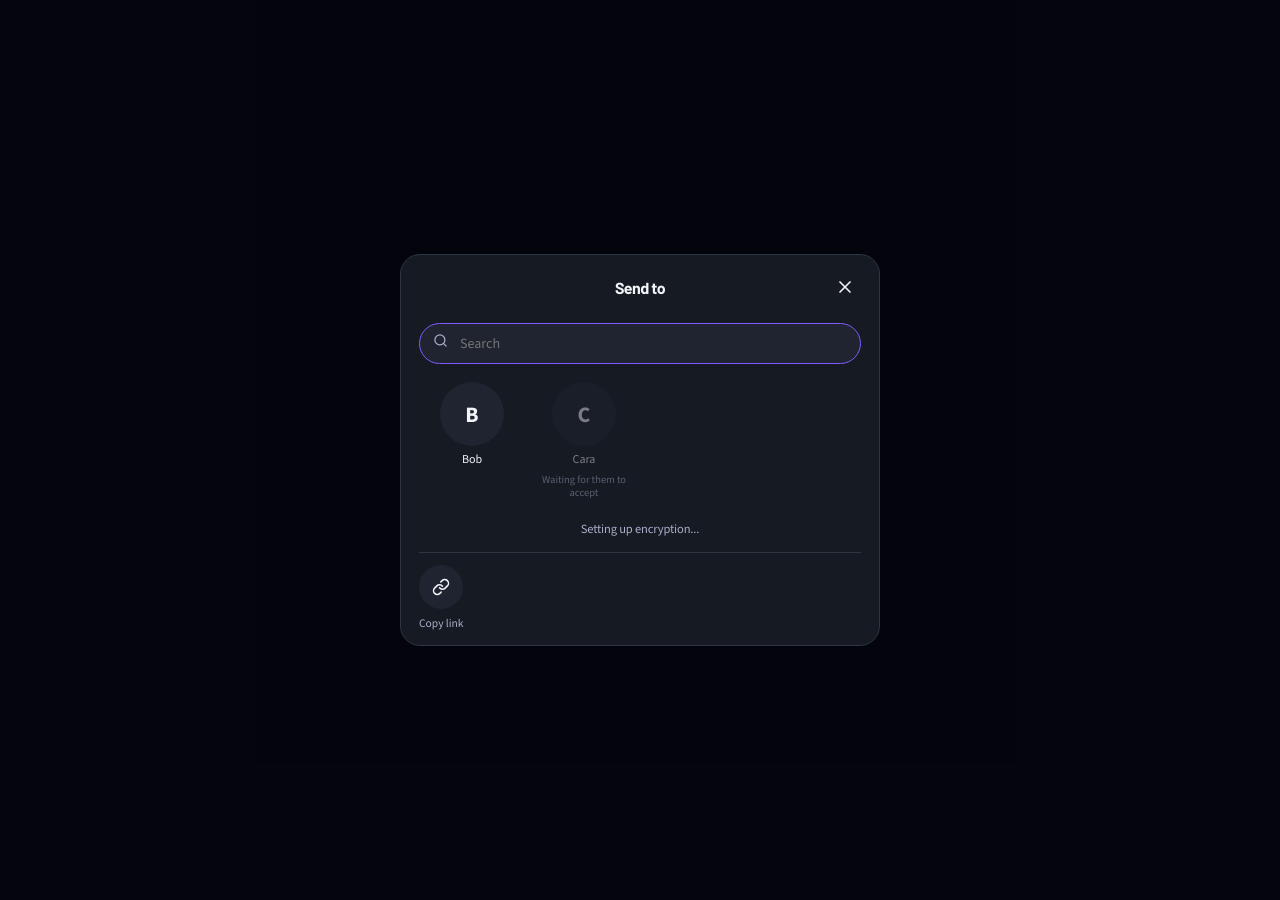
Test: SharePostDialog › cannot send while this device's encryption is not ready
The width and height of the screenshot is (1280, 900).
Click the checkbox labelled "B Bob".
click(472, 440)  # box [419,382,525,498]
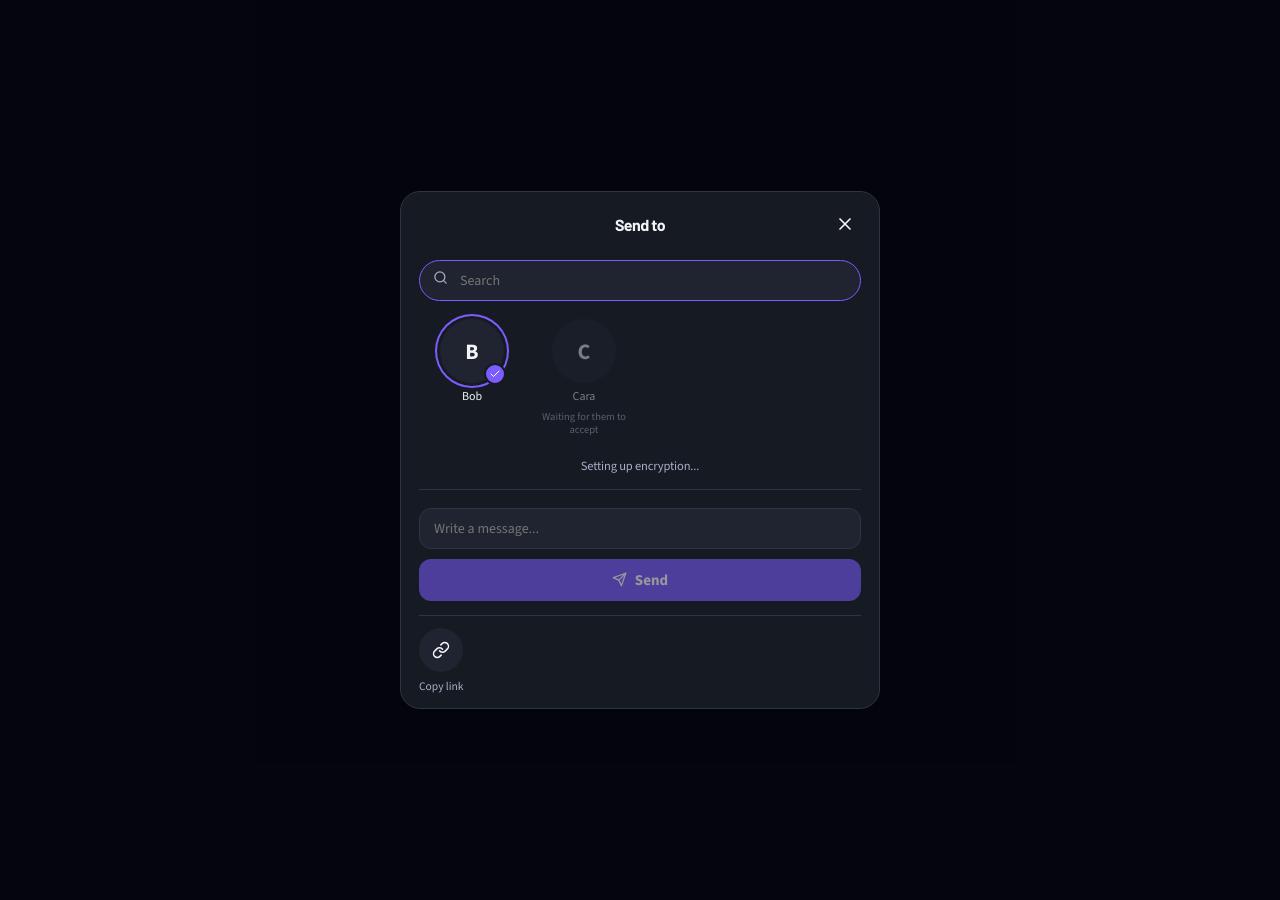
Expected: the text "Setting up encryption..." is shown, [581,457,699,474]
Expected: the button "Send" is disabled, [419,559,861,601]
